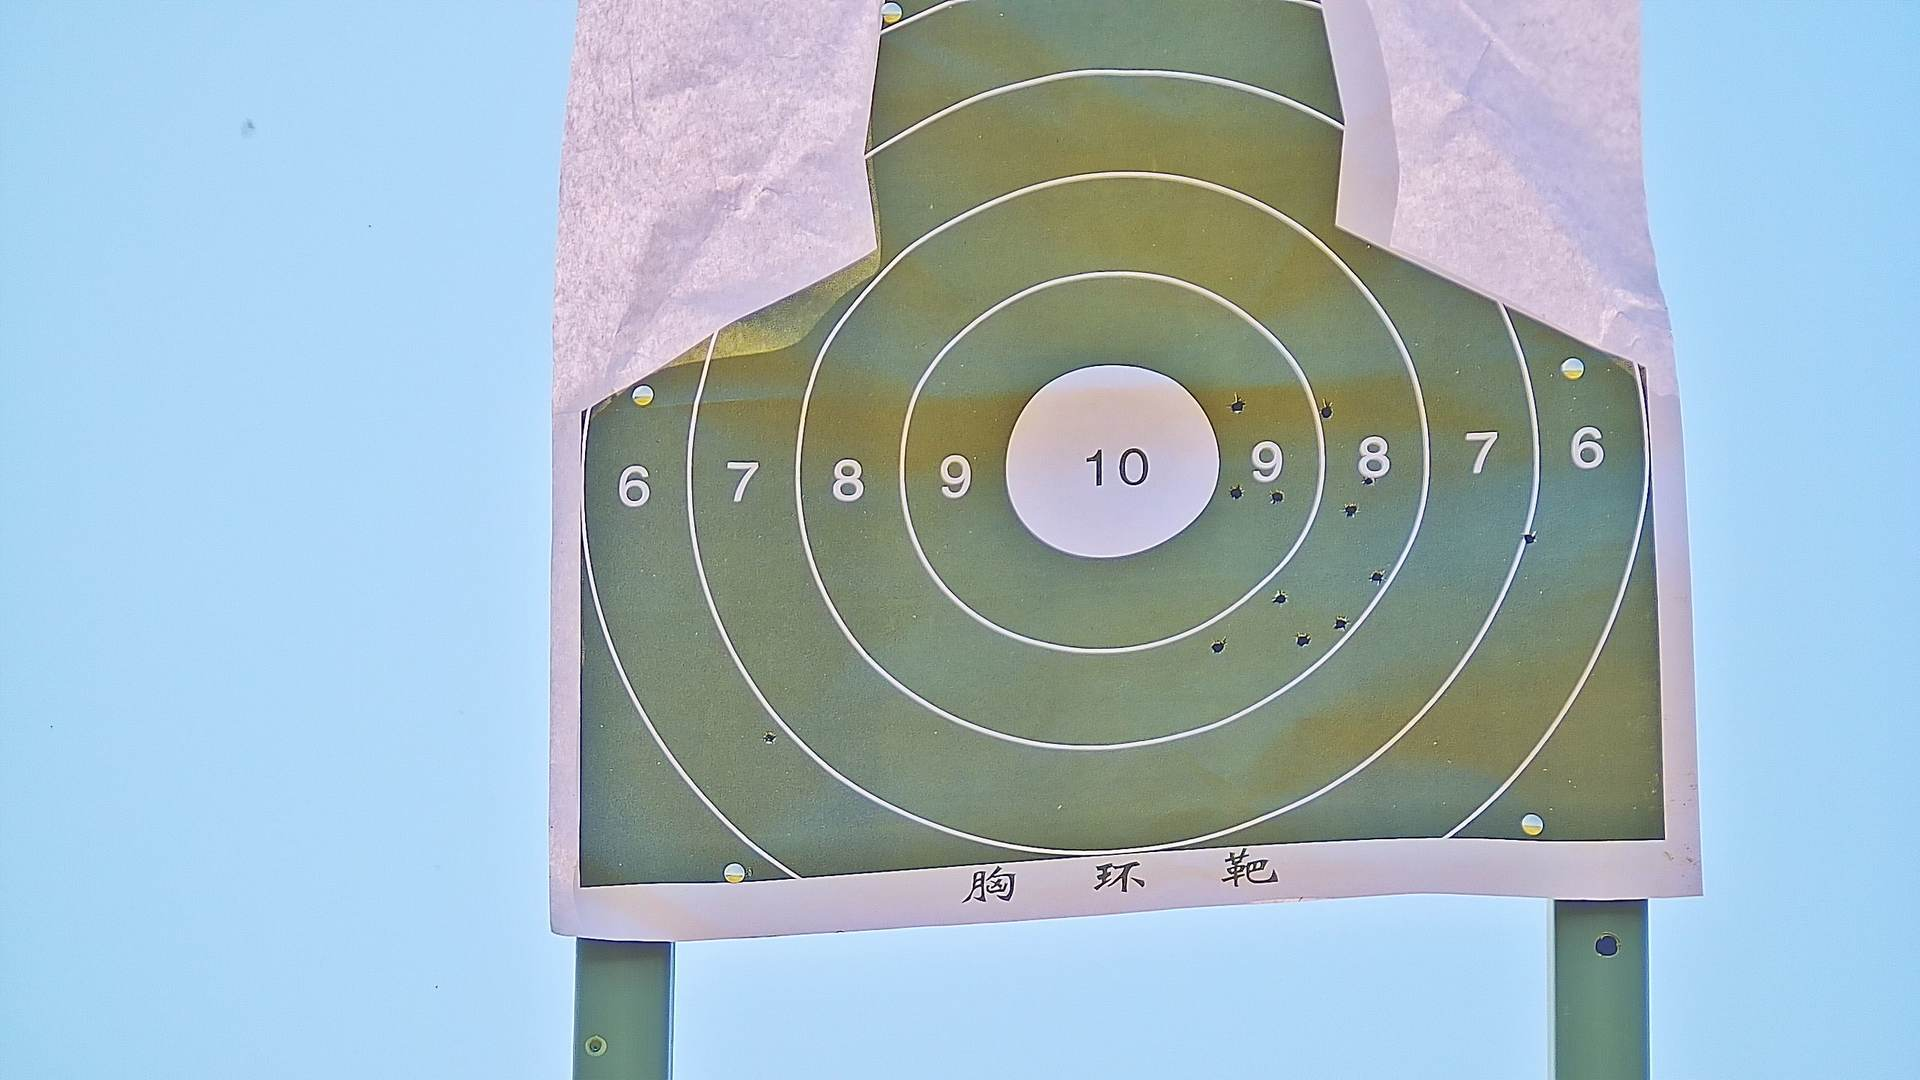hole: (1296, 632, 1313, 650), (1332, 615, 1348, 632), (1370, 570, 1385, 587), (1320, 404, 1335, 419), (1270, 491, 1286, 505), (1273, 589, 1288, 604), (762, 732, 777, 745), (1212, 638, 1224, 654), (1342, 504, 1358, 516), (1362, 476, 1377, 488), (1232, 400, 1245, 411), (1230, 487, 1242, 498), (1524, 533, 1536, 545)
kernel: (1109, 469, 1112, 472)
target: (574, 9, 1675, 894)
ten: (1006, 365, 1218, 560)
